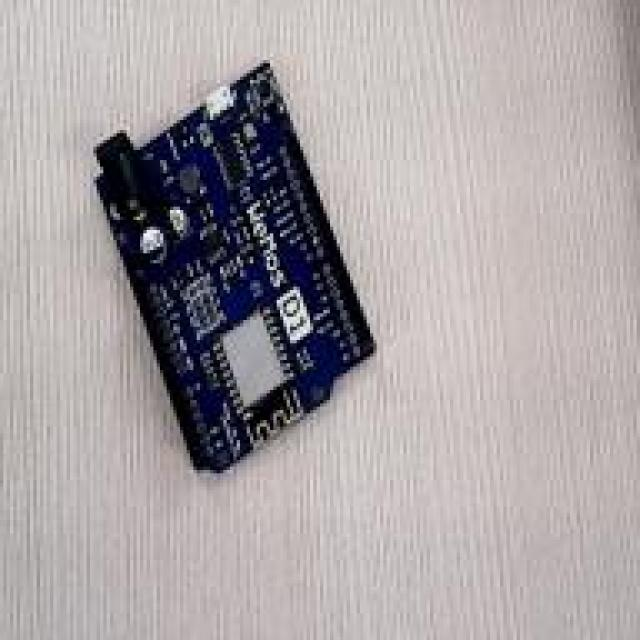Wemos: (98, 64, 371, 471)
